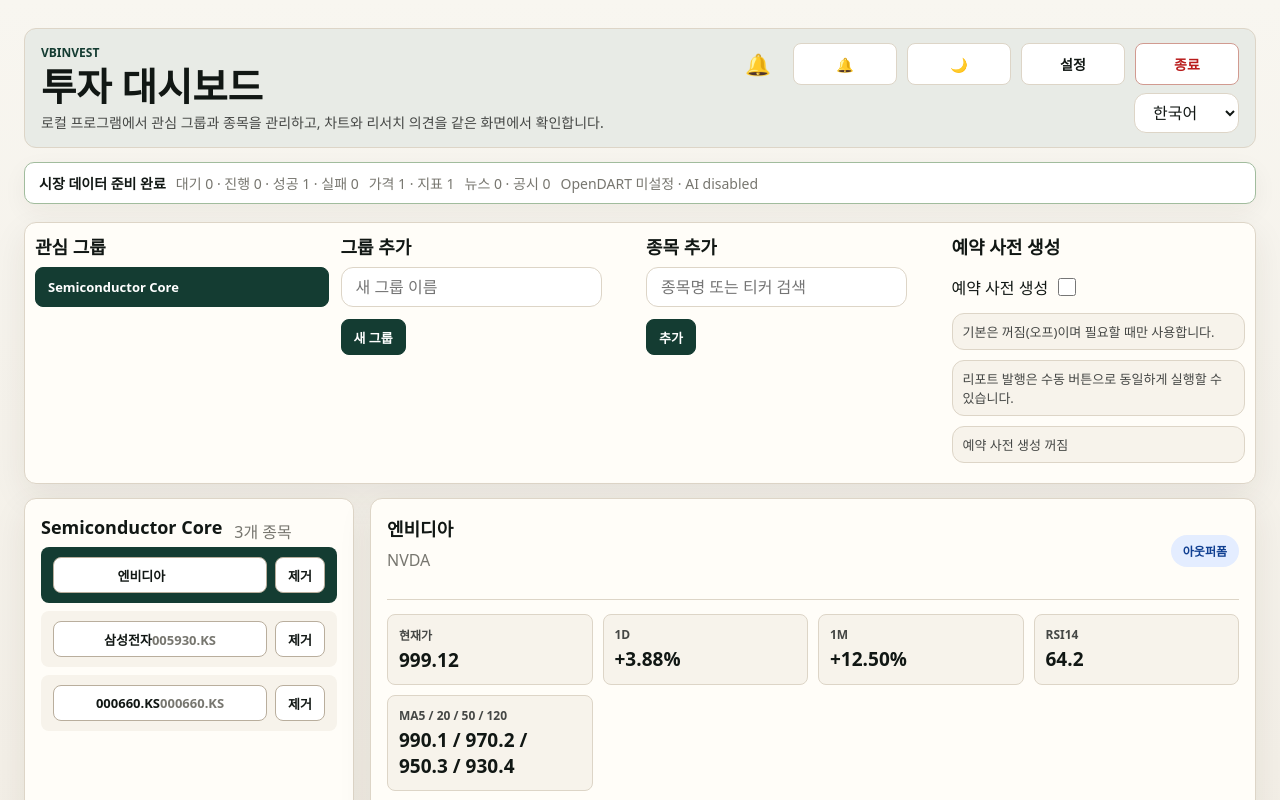
Test case: WatchlistDashboard › removes a symbol via DELETE /api/watchlists/{id}/assets/{symbol}
The image size is (1280, 800).
Expected: the button "새 그룹" is enabled, [340, 319, 406, 355]
Click the button named "NVDA 제거" at [300, 575], box [275, 557, 325, 593]
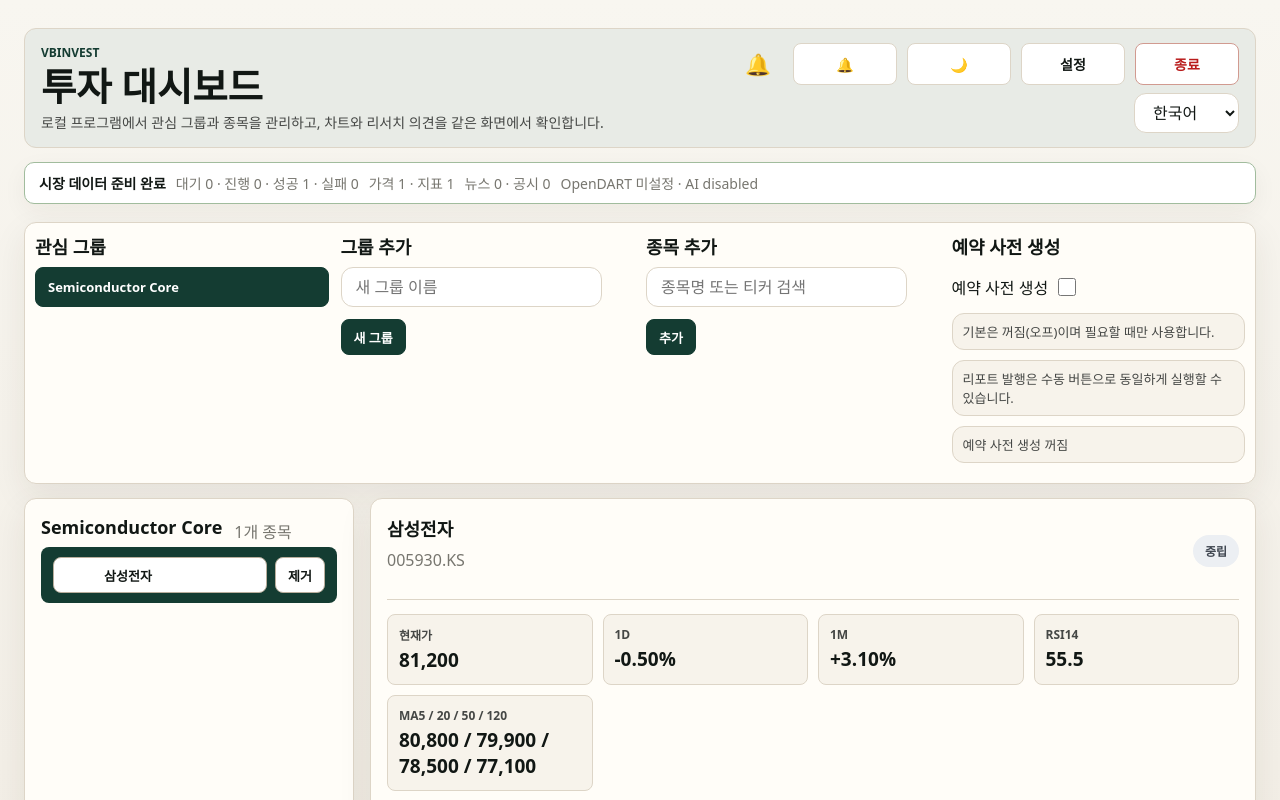
Result: the button with test id "symbol-NVDA" is gone
Result: the heading "삼성전자" is shown at [387, 515, 465, 541]
